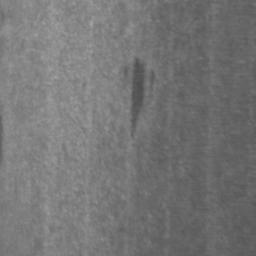Inclusion: (131, 58, 147, 138)
